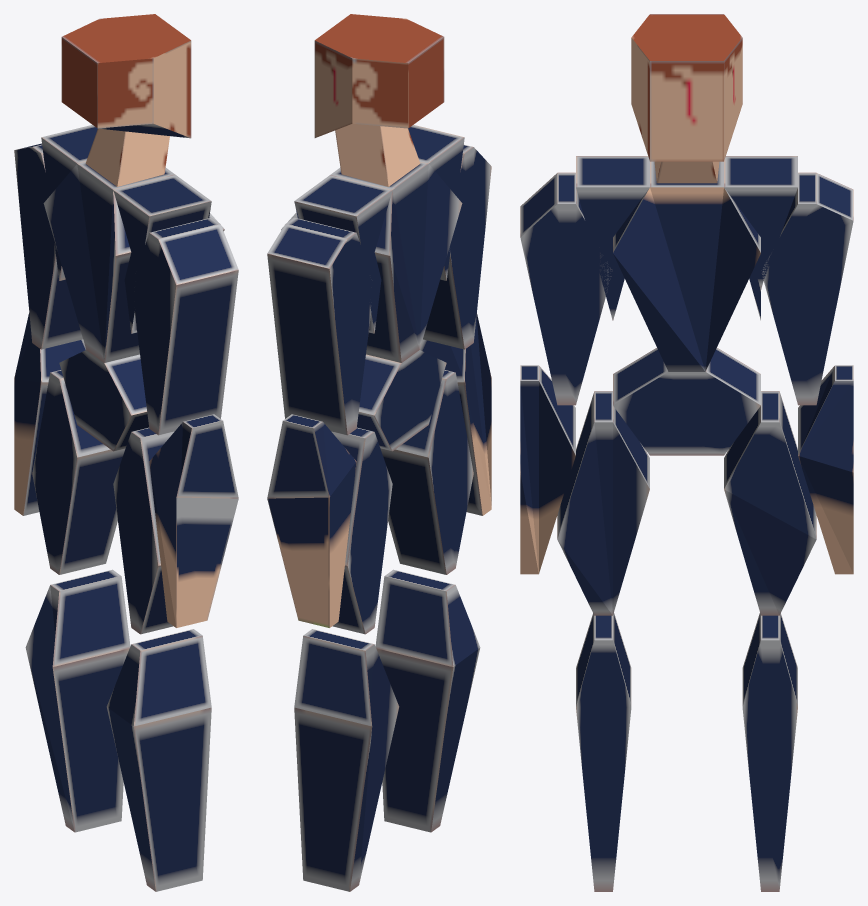
File: character.gltf
3 renders of one model, left to right at view 1: azimuth 30°, elevation 25°; view 2: azimuth 150°, elevation 25°; view 3: azimuth 270°, elevation 25°, orthographic. The views are drawn at different scales.
Bounding box in the file's own units: 1.75 × 12.5 × 4.5.
Materials: 1 (1 with a texture image).
